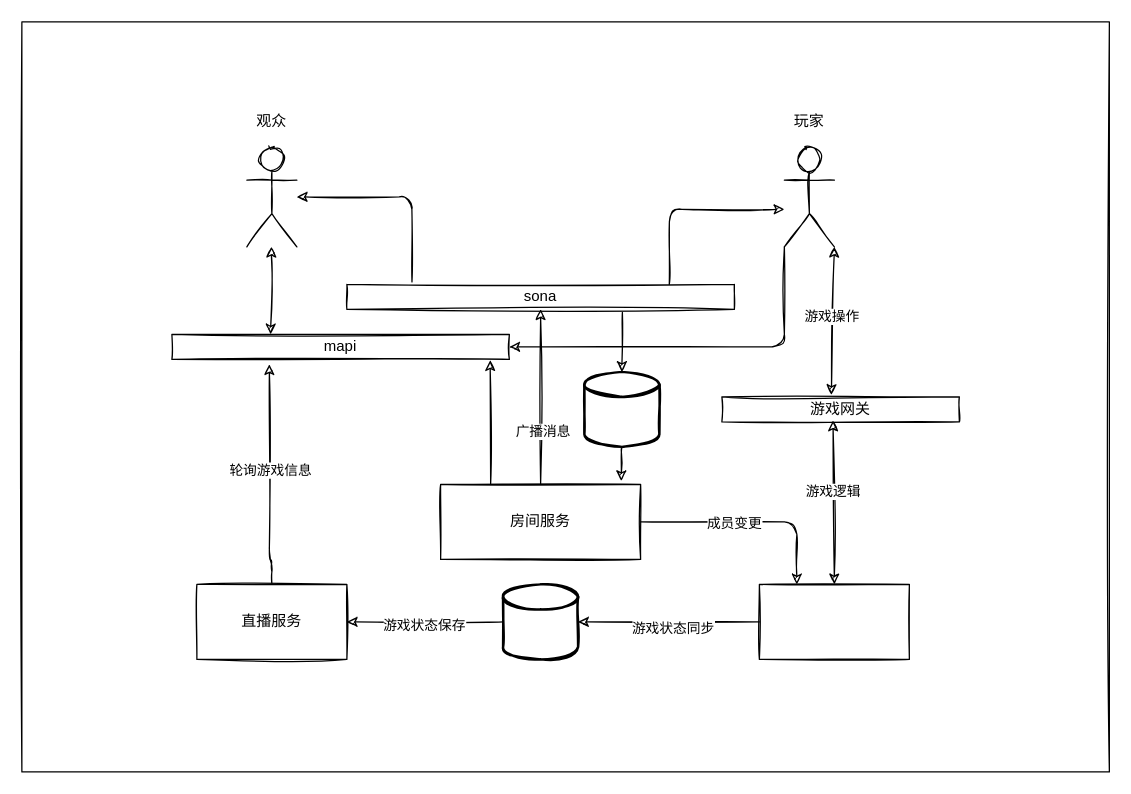
Image size: 1131x794. Some labels were removed from this diagram. Here are the shapes that lost their labels. From the top down, the centre of each, then its label:
the point at 621,409: MQ
the point at 540,621: Redis
the point at 833,621: 游戏服务
